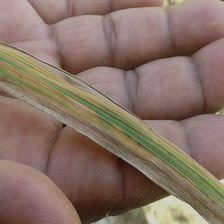Leaf_Blast: (3, 38, 204, 194)
